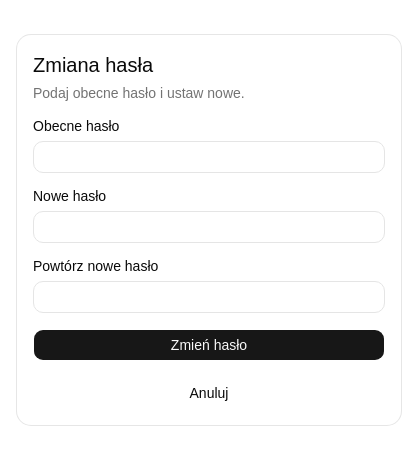
Scenario: ChangePasswordPage validation › rejects a password shorter than 8 characters
Type "stare123" into the password field labelled "Obecne hasło" at point(209, 157), box [33,141,385,173]
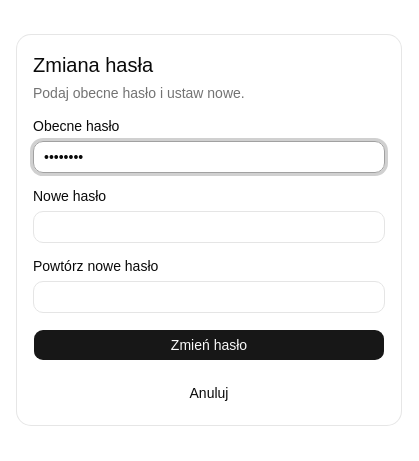
Type "krotkie" into the password field labelled "Nowe hasło" at point(209, 227), box [33,211,385,243]
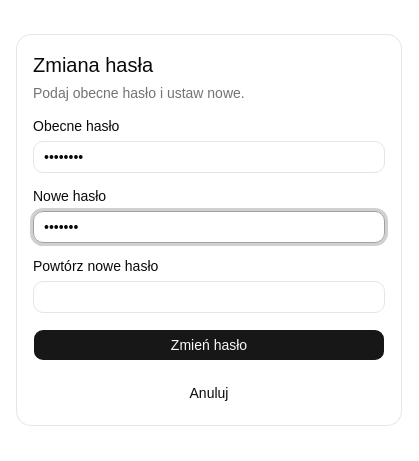
Type "krotkie" into the password field labelled "Powtórz nowe hasło" at point(209, 297), box [33,281,385,313]
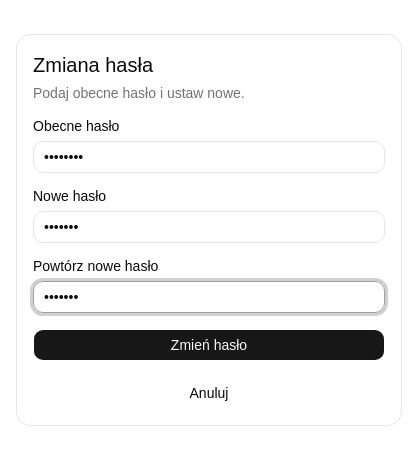
Click the button "Zmień hasło" at point(209, 345), box [33,329,385,361]
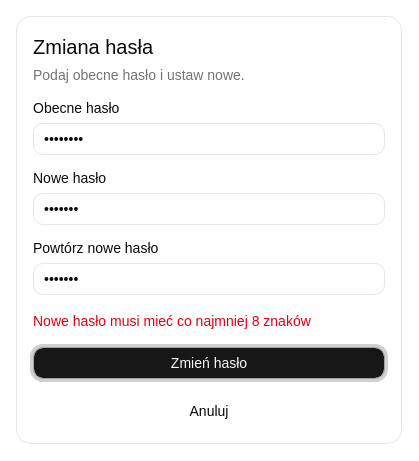
Expected: the message shows "co najmniej 8 znaków", [33,313,311,329]
